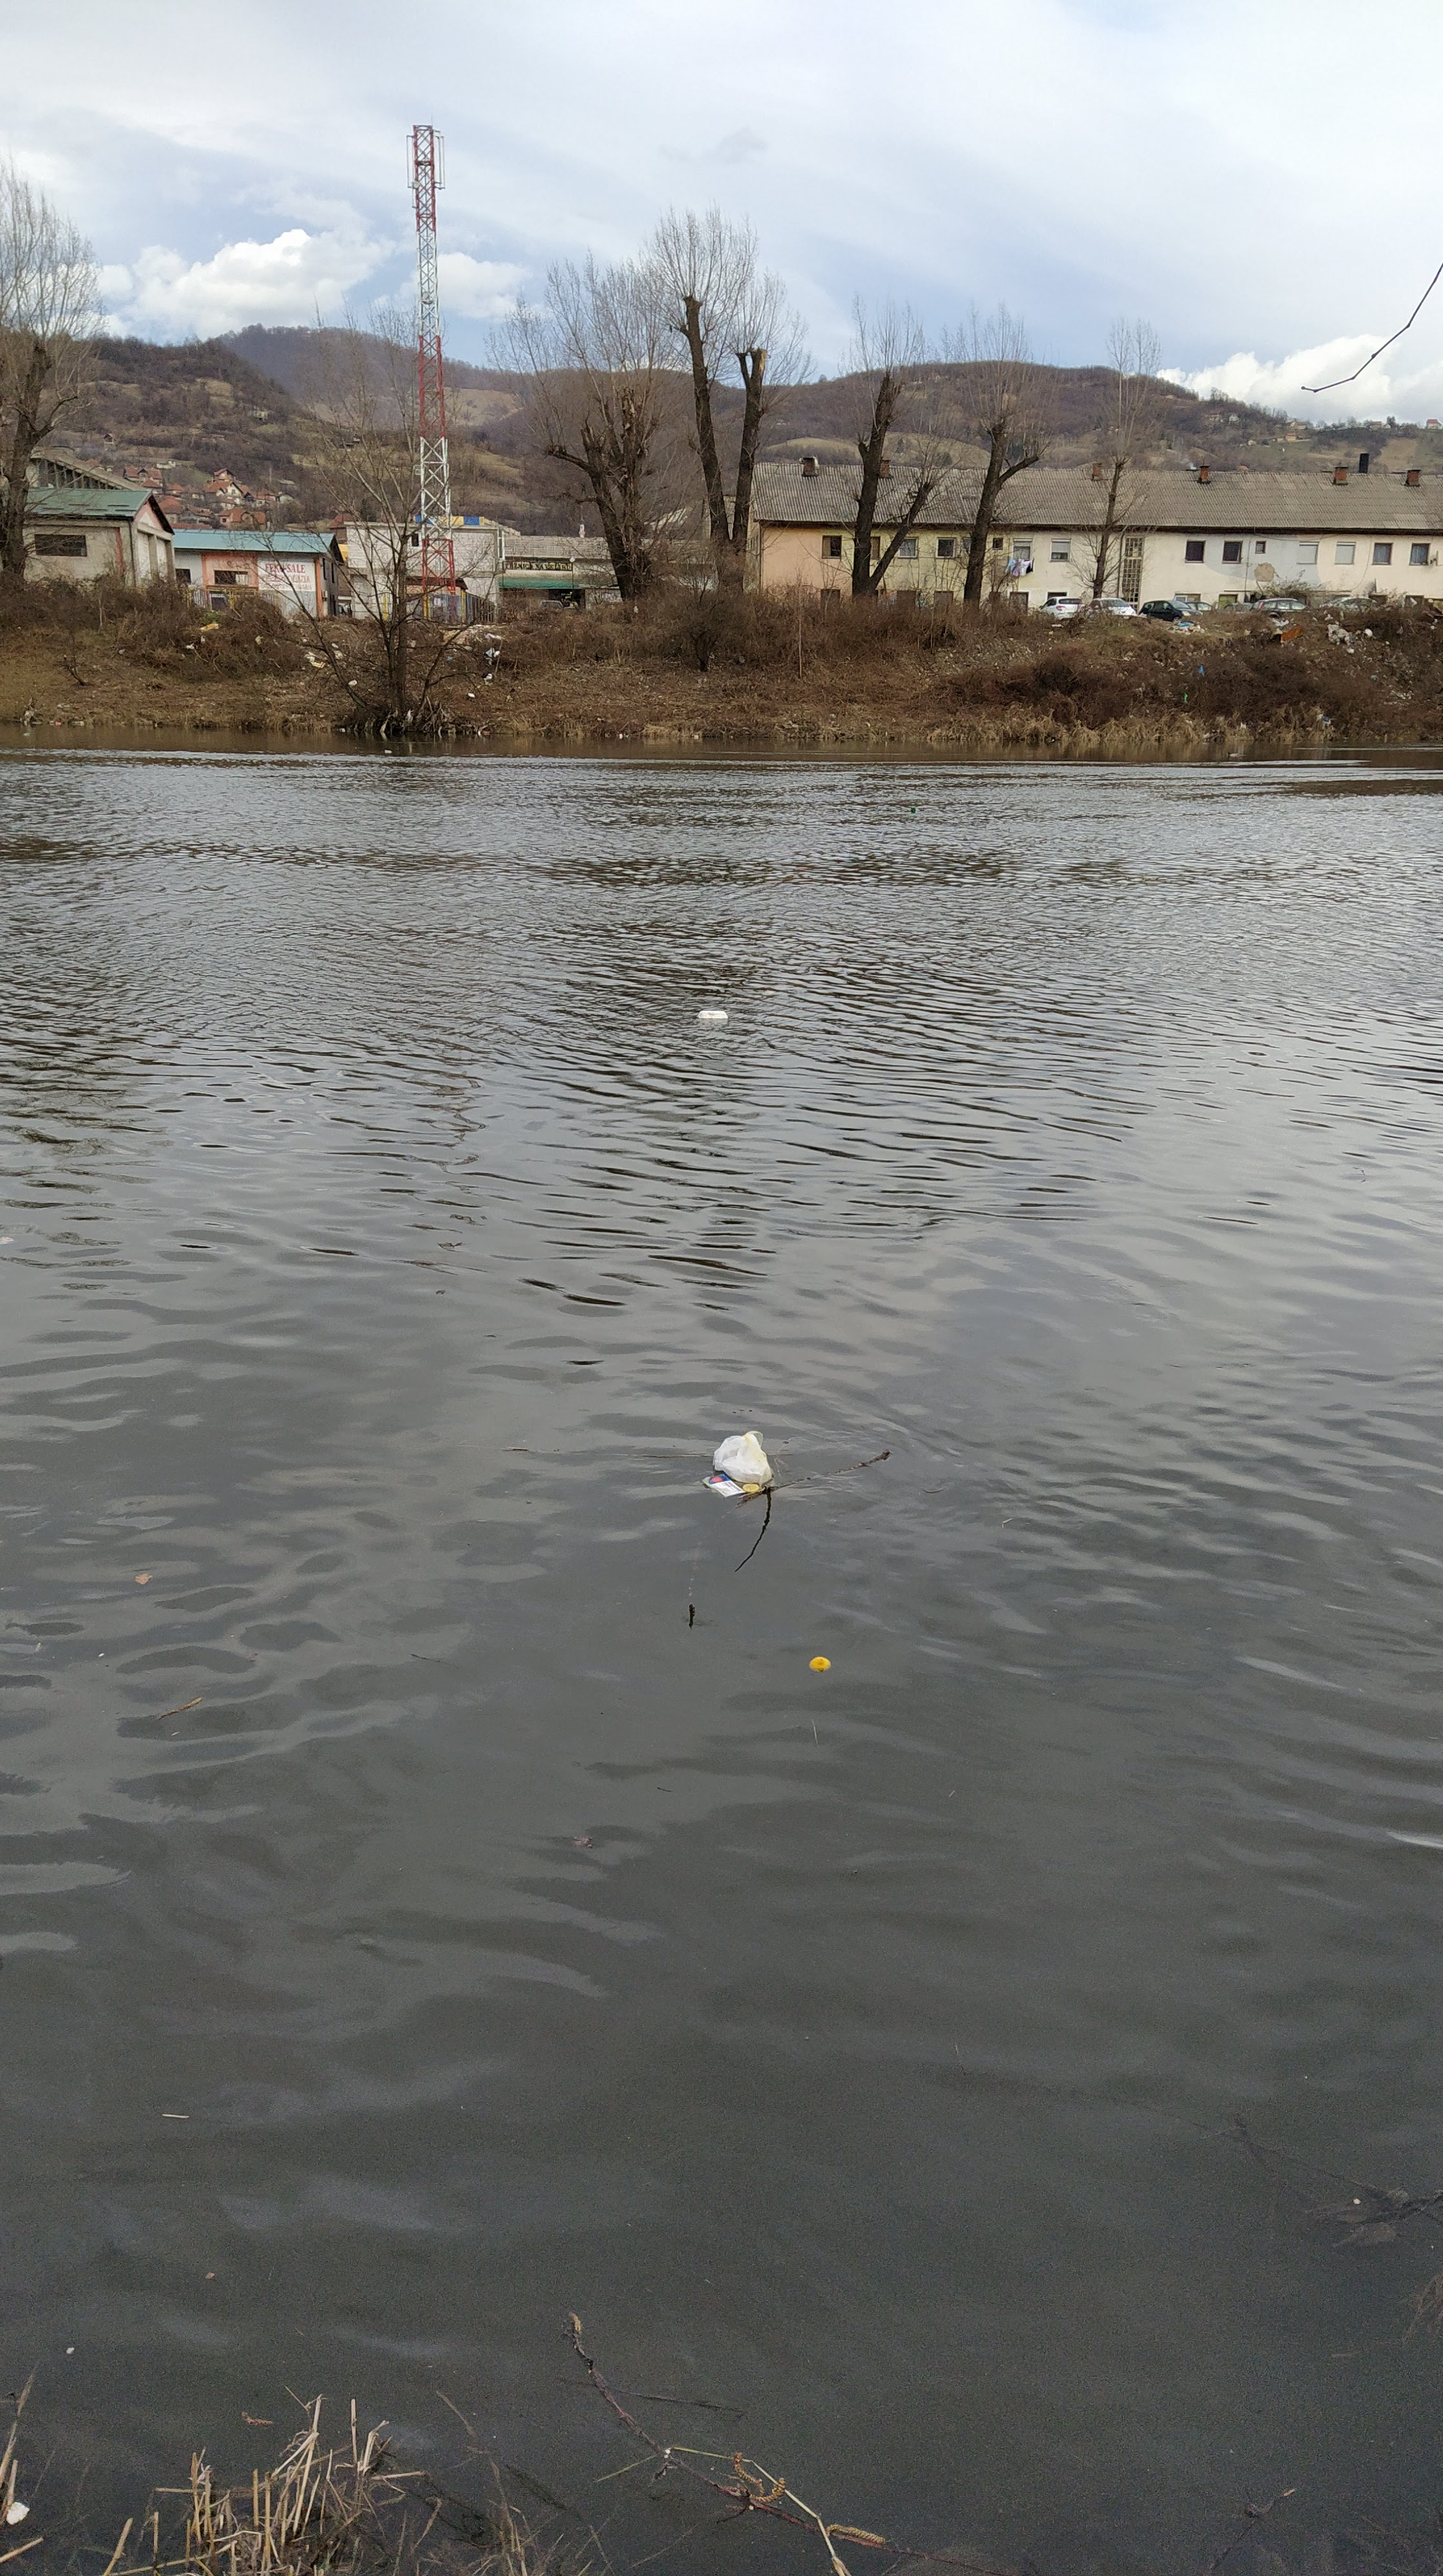Plastic Bottle: (698, 1010, 728, 1019), (910, 807, 915, 812), (386, 748, 391, 752)
